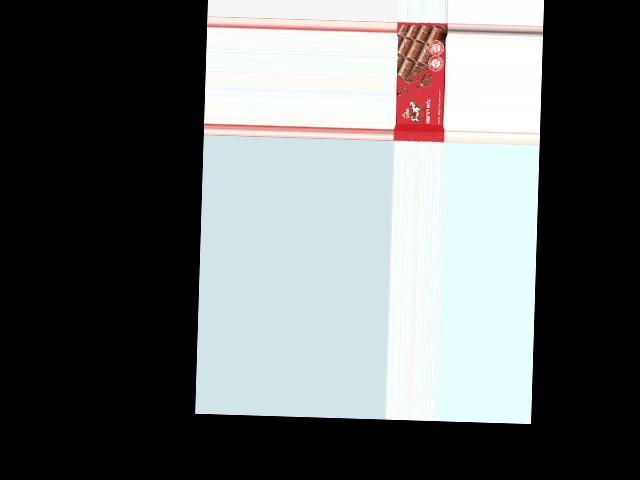chocolate: (394, 22, 448, 140)
